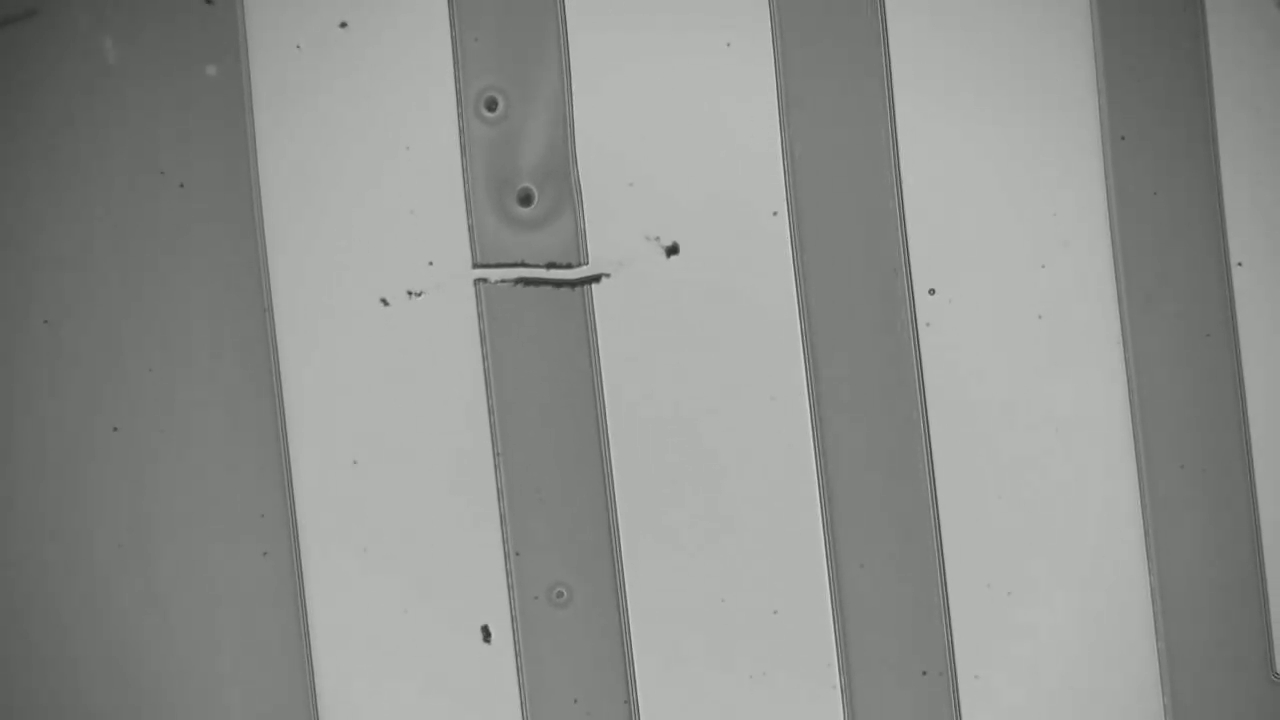Short_circuit: (454, 249, 613, 308)
